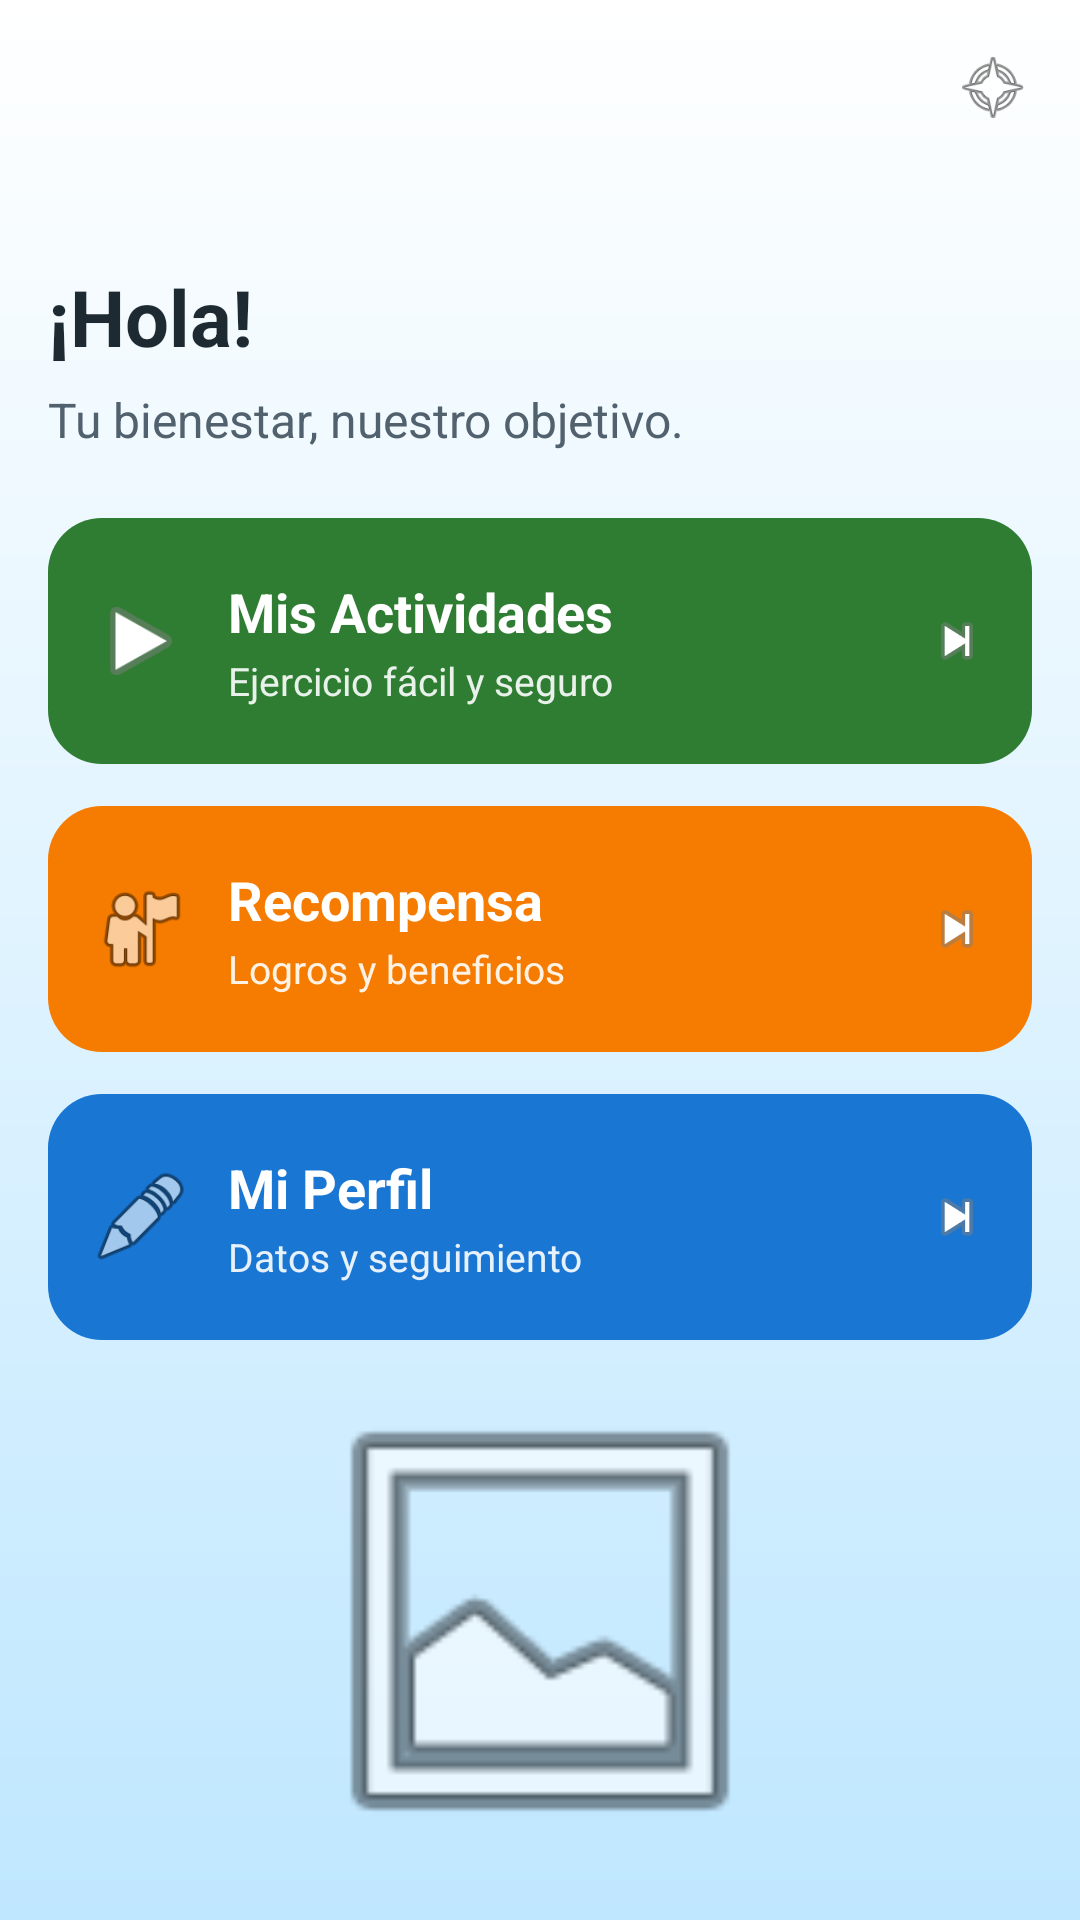

Where icons sit on this 1080x1920 app screen, as (x1, y1, x2, y2):
go: (941, 623, 973, 659), (941, 910, 973, 948), (941, 1198, 973, 1236)
